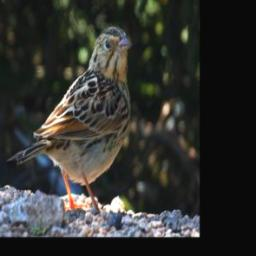Sparrow: (4, 18, 138, 215)
